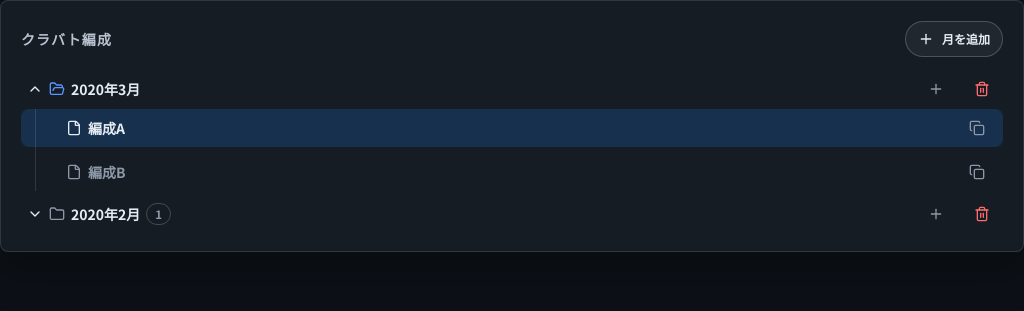
Test: ClanBattleSidebar（インライン編成追加） › Escapeでインライン入力欄をキャンセルし、編成は追加しない
Click the button named "2020年3月に編成を追加" at coordinates (936, 89), box [915,74,957,104]
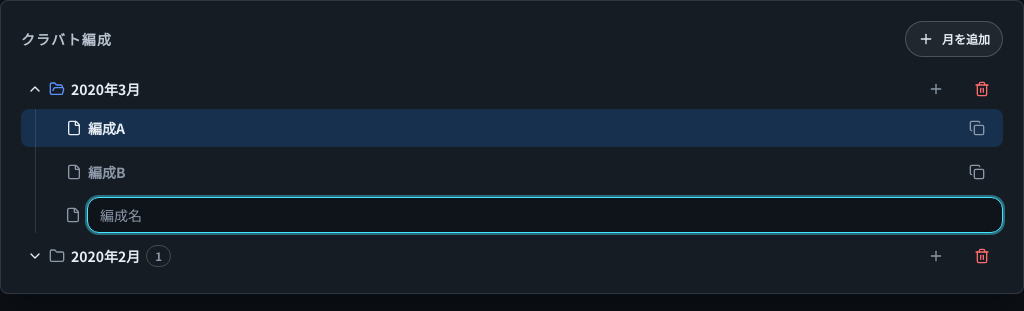
Type "捨てる編成" into the field labelled "編成名" at coordinates (545, 215), box [87,197,1003,233]
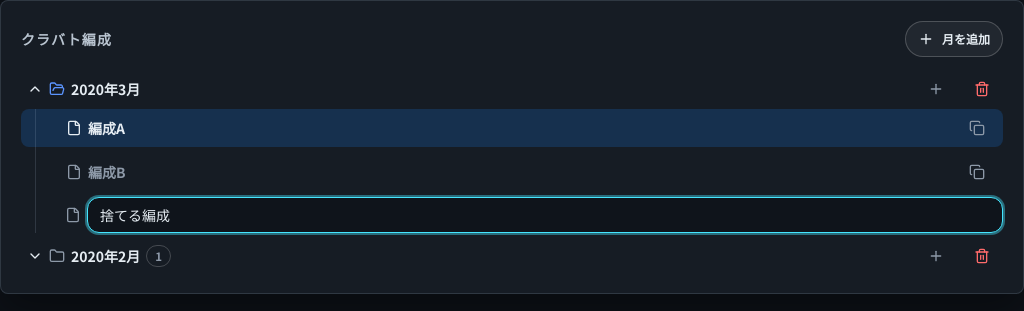
Press Escape in the field named "編成名", box [87,197,1003,233]
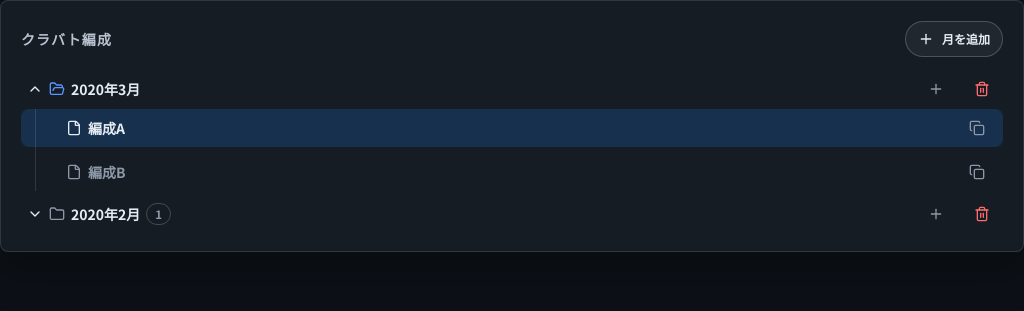
expect the field labelled "編成名" is gone: met
